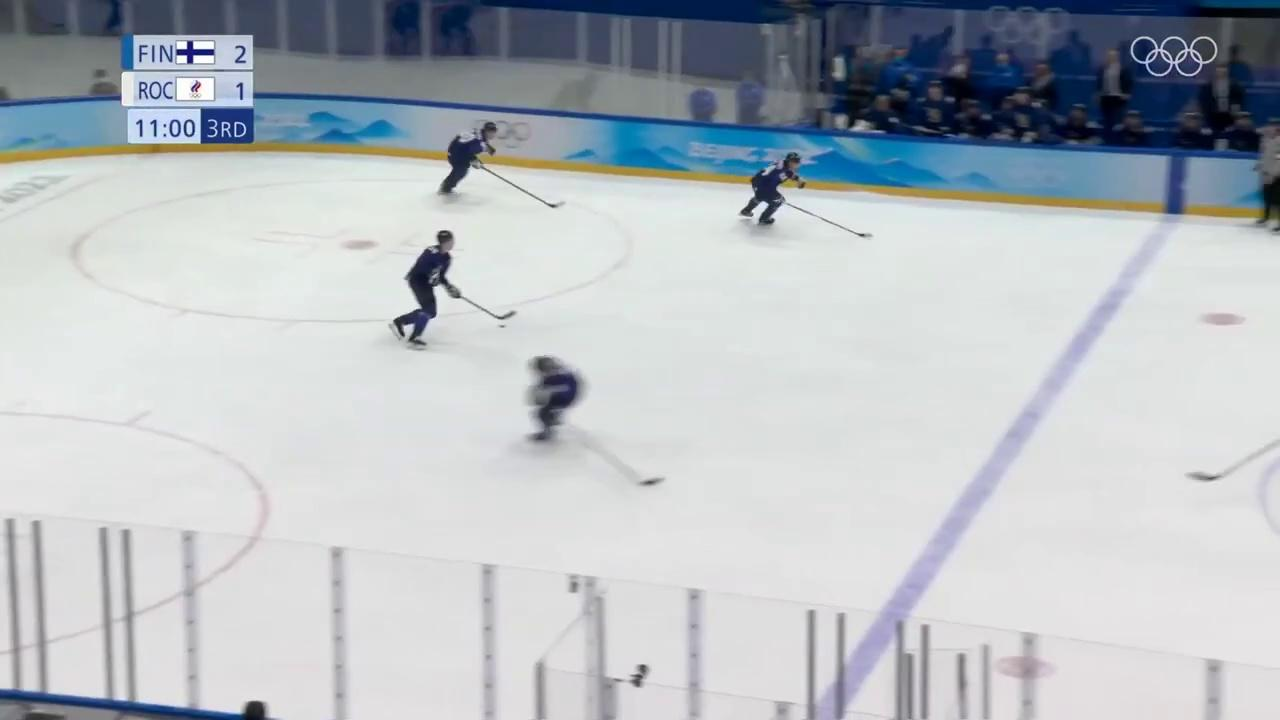ball: (498, 325, 506, 328)
